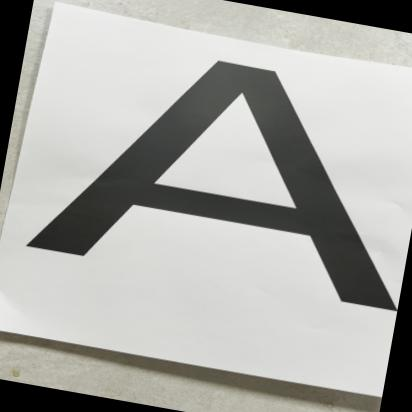seat: (25, 13, 412, 342), (23, 18, 412, 318)
